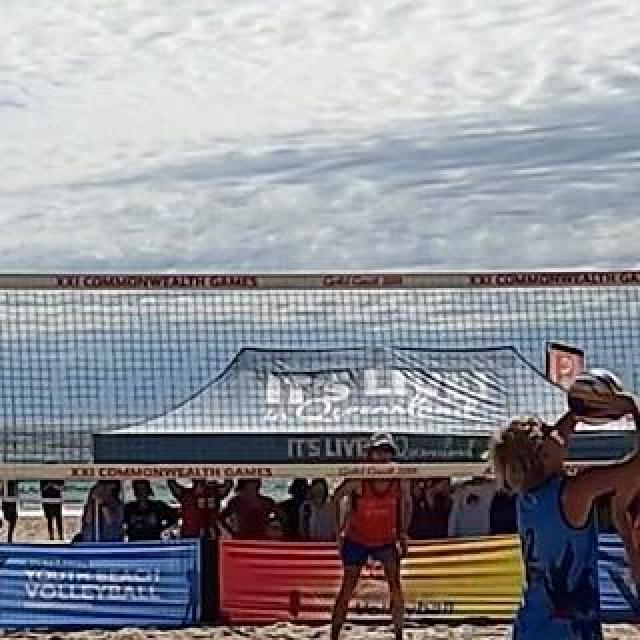volleyball: (568, 366, 626, 424)
